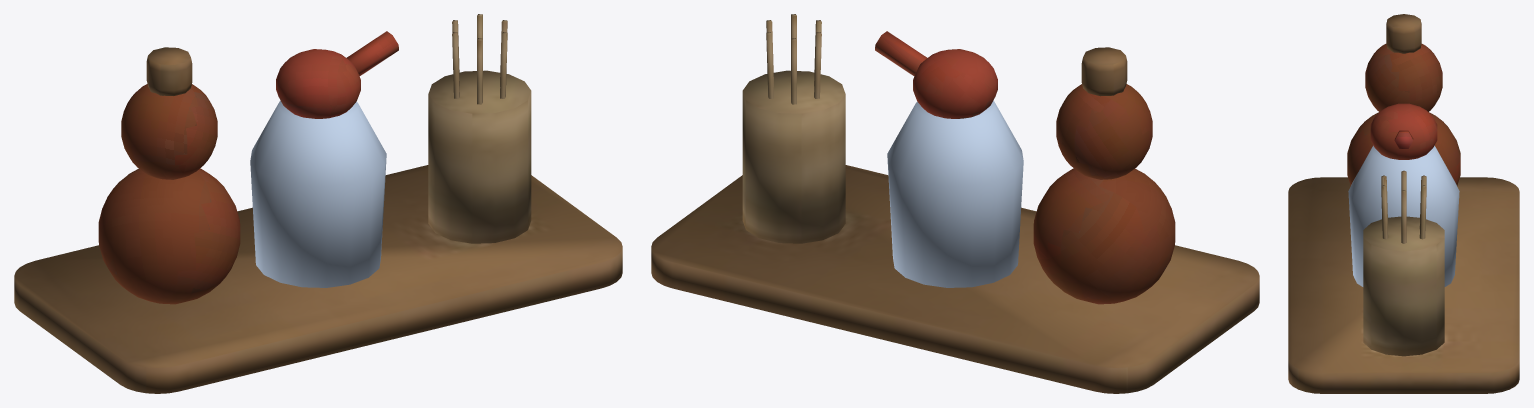
Rendered from condiments.glb.
3 renders of one model, left to right at view 1: azimuth 30°, elevation 25°; view 2: azimuth 150°, elevation 25°; view 3: azimuth 270°, elevation 25°, orthographic. The views are drawn at different scales.
Visible parts, largest first — view 1: prop_condiments_wood, prop_condiments_felt, prop_condiments_glass; view 2: prop_condiments_wood, prop_condiments_felt, prop_condiments_glass; view 3: prop_condiments_wood, prop_condiments_felt, prop_condiments_glass.
Boxes of the visible parts, <box> form: prop_condiments_wood: <box>14,14,622,393</box>; prop_condiments_felt: <box>98,31,398,304</box>; prop_condiments_glass: <box>250,101,386,287</box>; prop_condiments_wood: <box>651,14,1259,393</box>; prop_condiments_felt: <box>875,31,1175,304</box>; prop_condiments_glass: <box>887,101,1023,287</box>; prop_condiments_wood: <box>1288,14,1519,393</box>; prop_condiments_felt: <box>1347,44,1460,185</box>; prop_condiments_glass: <box>1348,145,1459,286</box>.
Size of the model in its own units: 0.4 by 0.206 by 0.2.
Materials: 3 (2 with a texture image).
